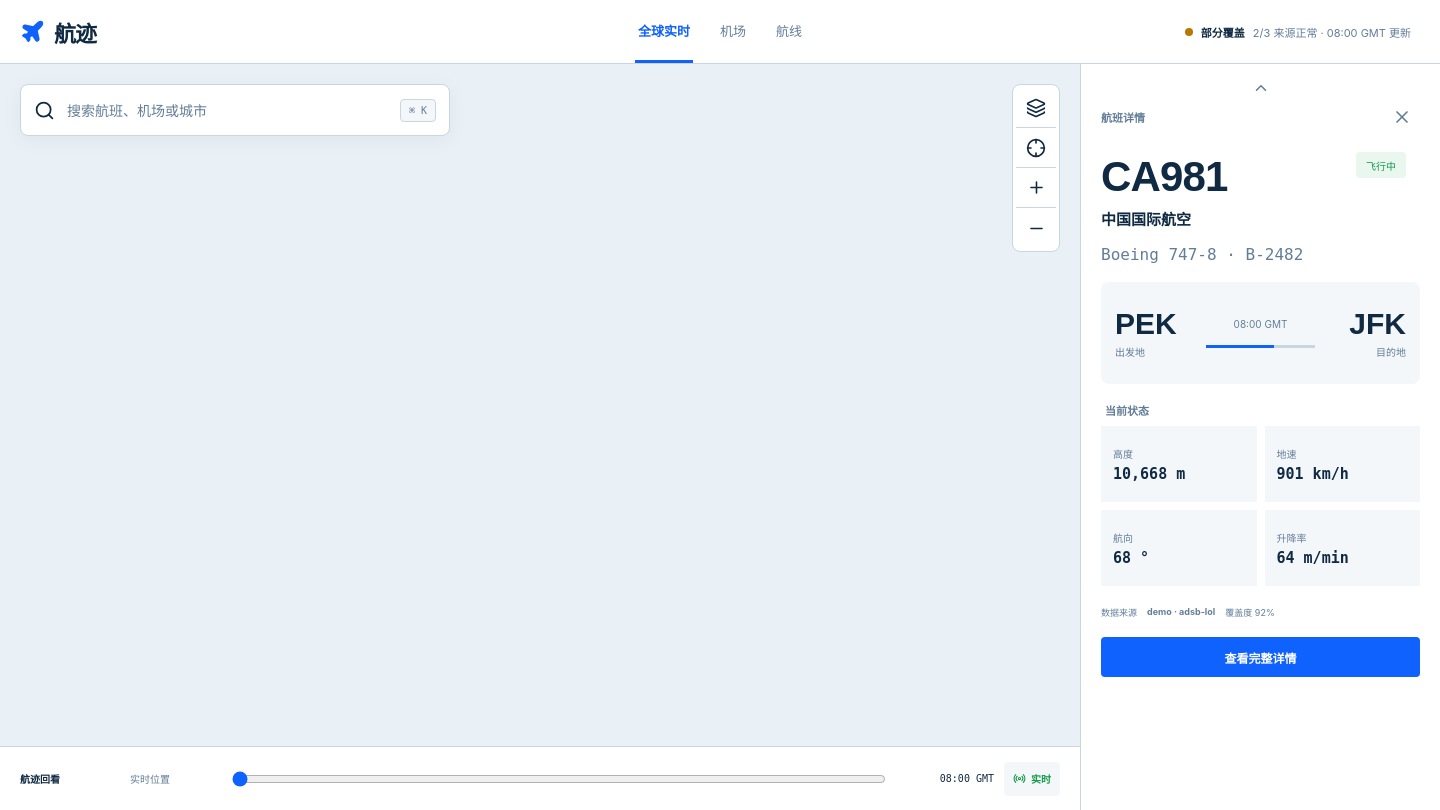
Scenario: AppShell › applies reliable flight filters immediately and resets them
Click the button named "打开图层与筛选".
click(1036, 108)  # box [1016,88,1056,128]
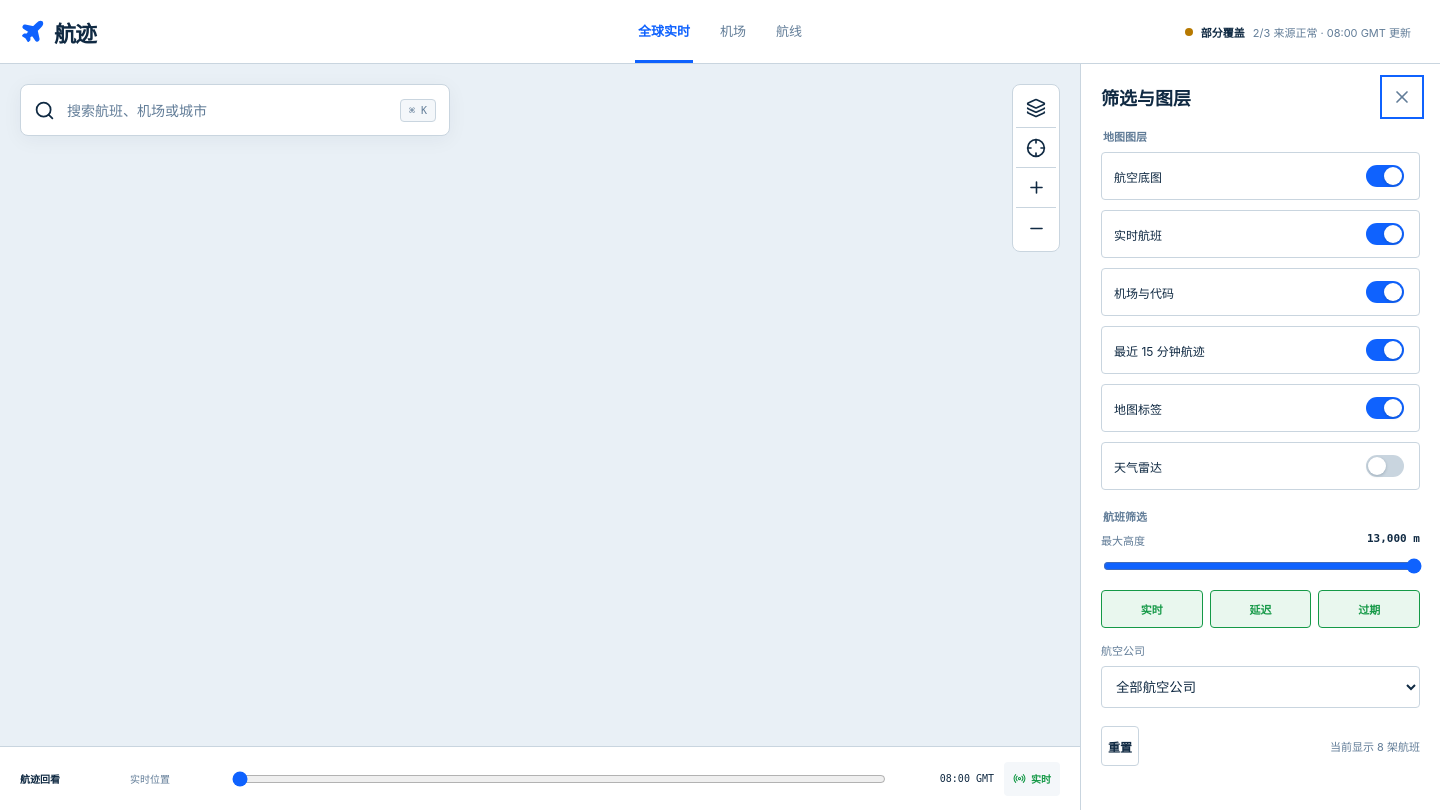
Check: the dialog "筛选与图层" is shown, box [1080,64,1439,809]
Set the slider labelled "最大高度" to "9000" at (1313, 566), box [1103,558,1422,574]
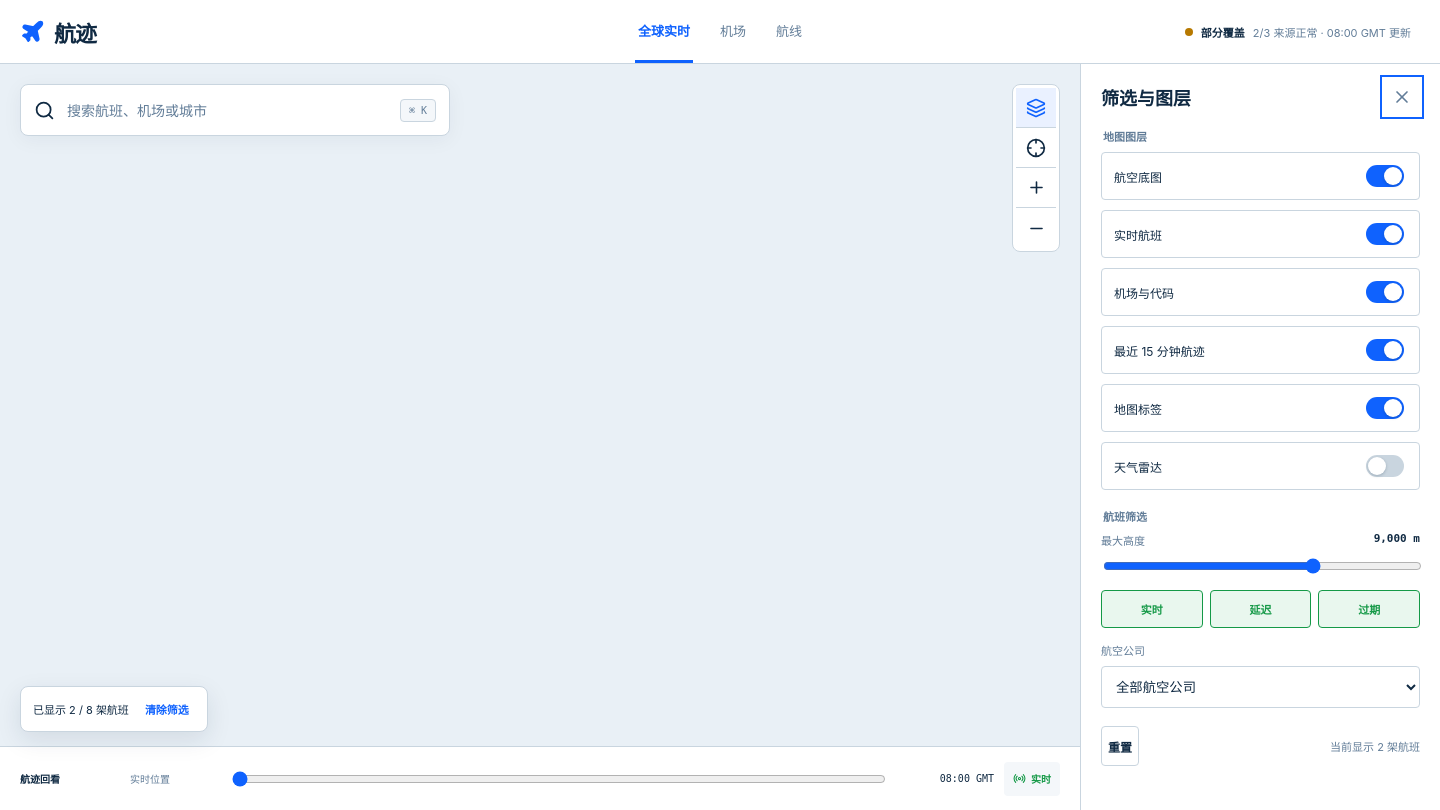
Check: the button with aria-label "重置筛选" is shown
Check: the text "已显示 2 / 8 架航班" is shown, box [33,701,129,717]
Click the button with aria-label "重置筛选".
click(1120, 746)  # box [1101,726,1139,766]
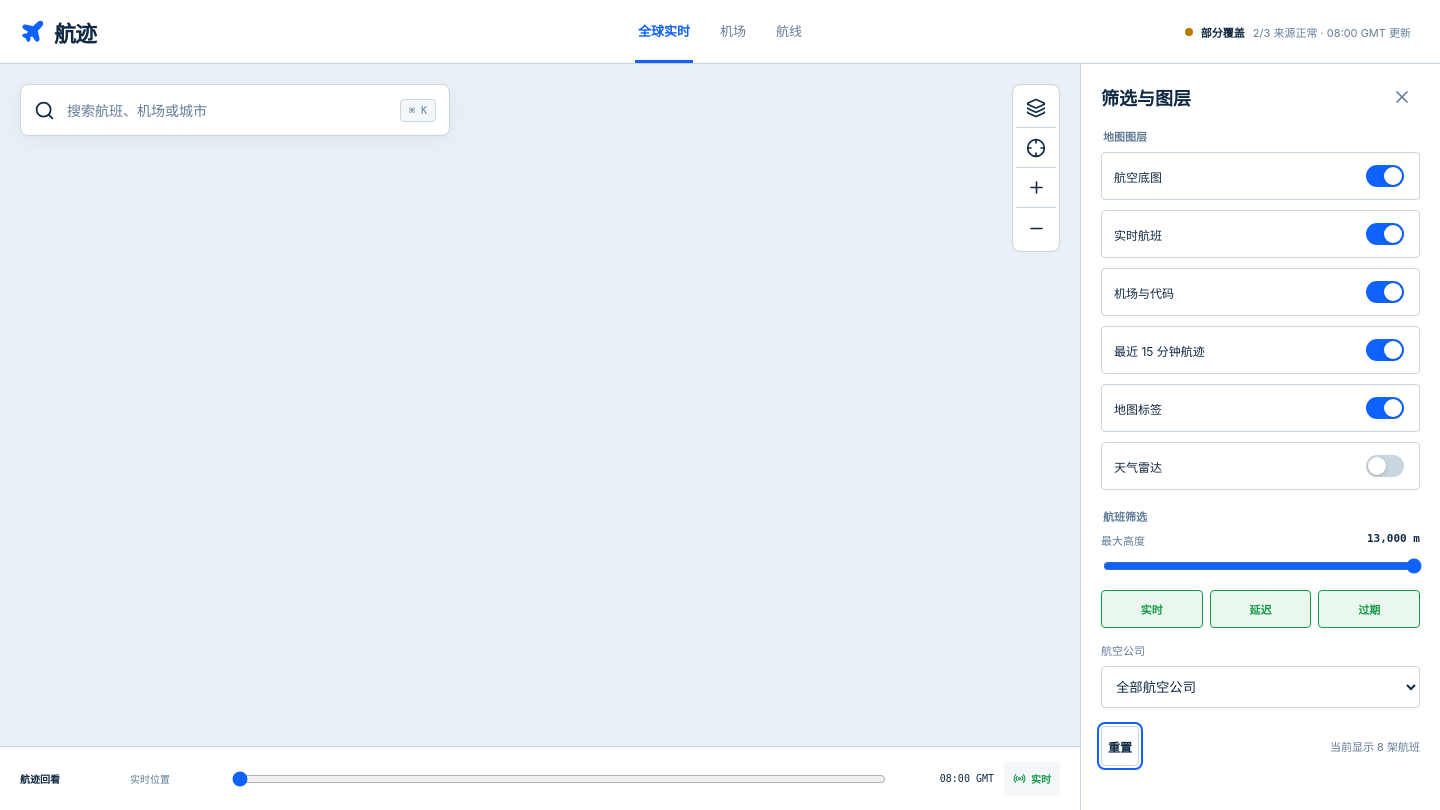
Check: the slider labelled "最大高度" holds "13000", box [1103,558,1422,574]
Check: the text "已显示 2 / 8 架航班" is gone
